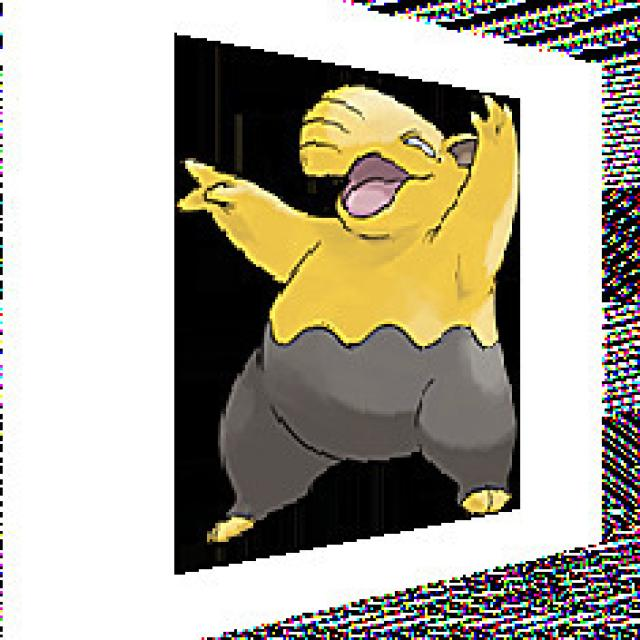Drowzee: (189, 73, 525, 527)
